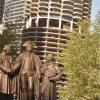Statue: (5, 37, 60, 97)
